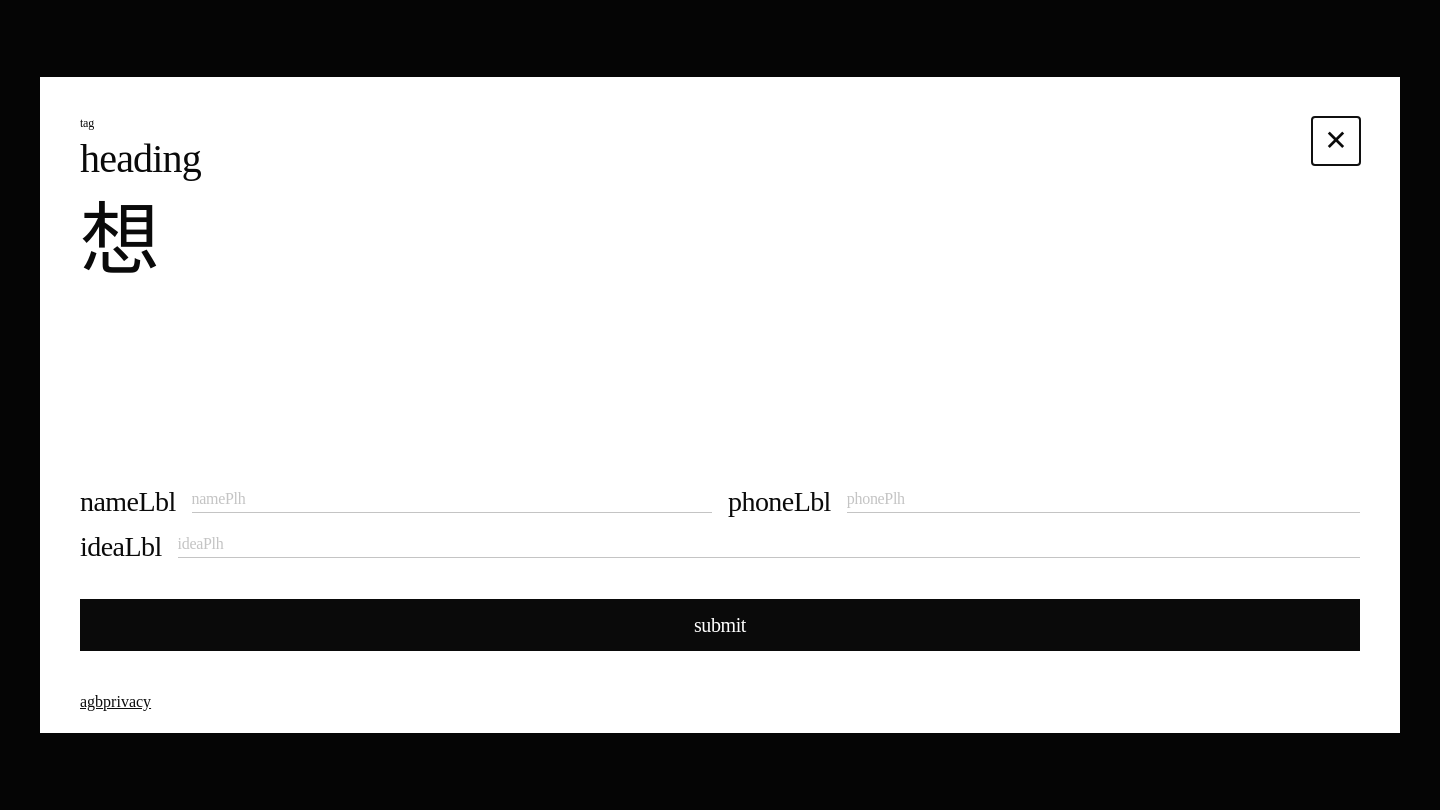
Test: FormPopup › shows success state after successful submit
The width and height of the screenshot is (1440, 810).
Type "Anna" into the field named "name".
click(452, 499); type("Anna")  # box [192,490,712,508]
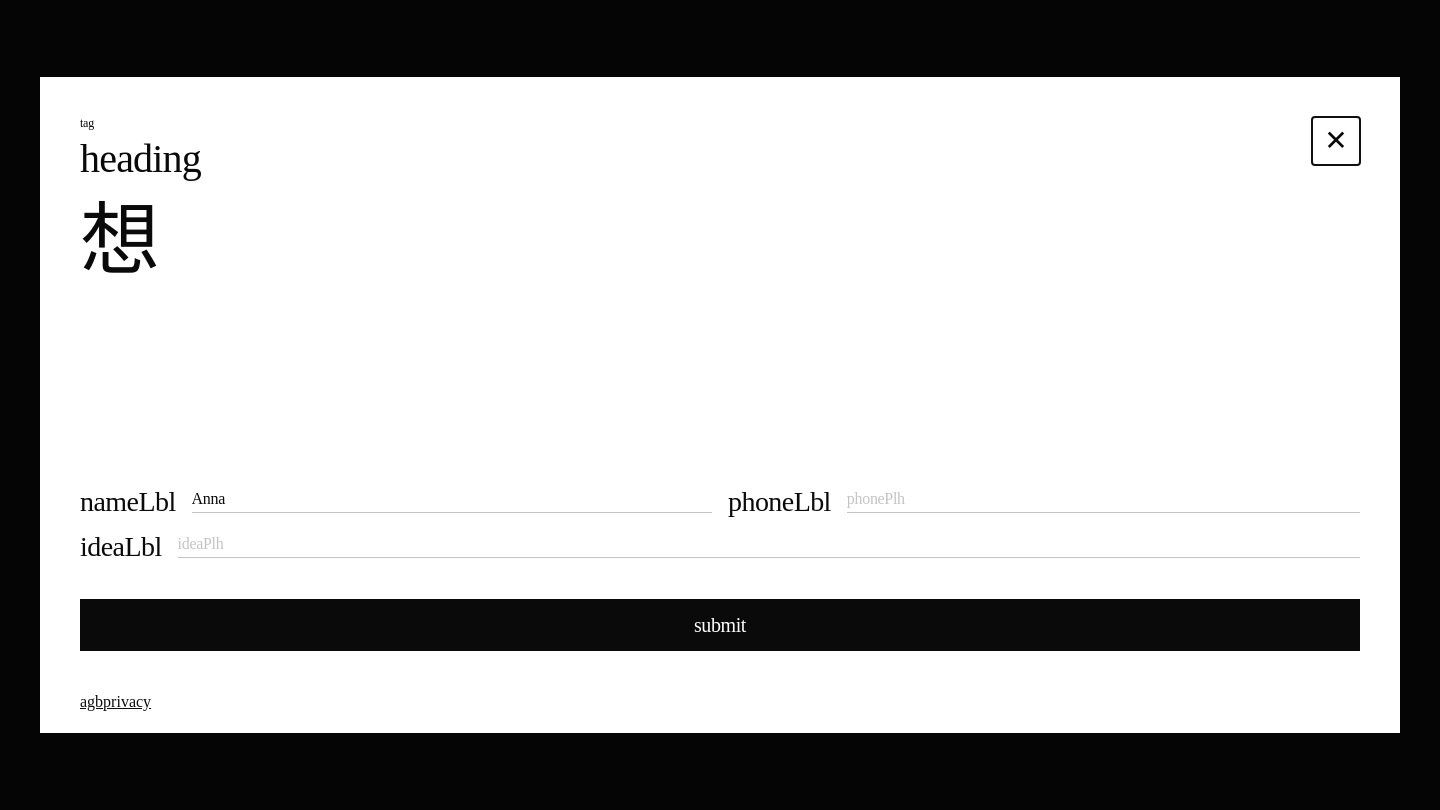
Type "+49123456789" into the field named "phone".
click(1103, 499); type("+49123456789")  # box [847,490,1360,508]
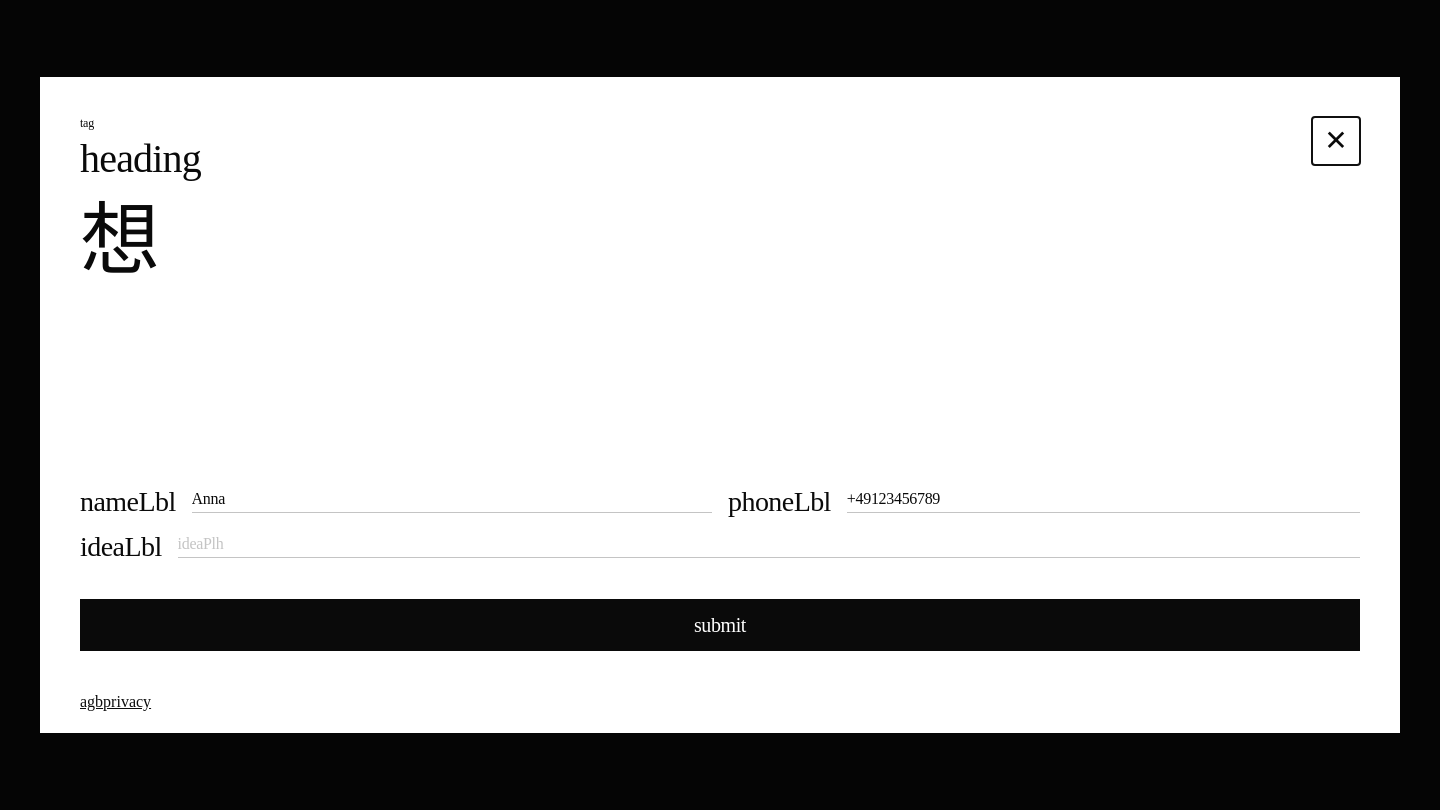
Submit the form, box [60,469,1380,713]
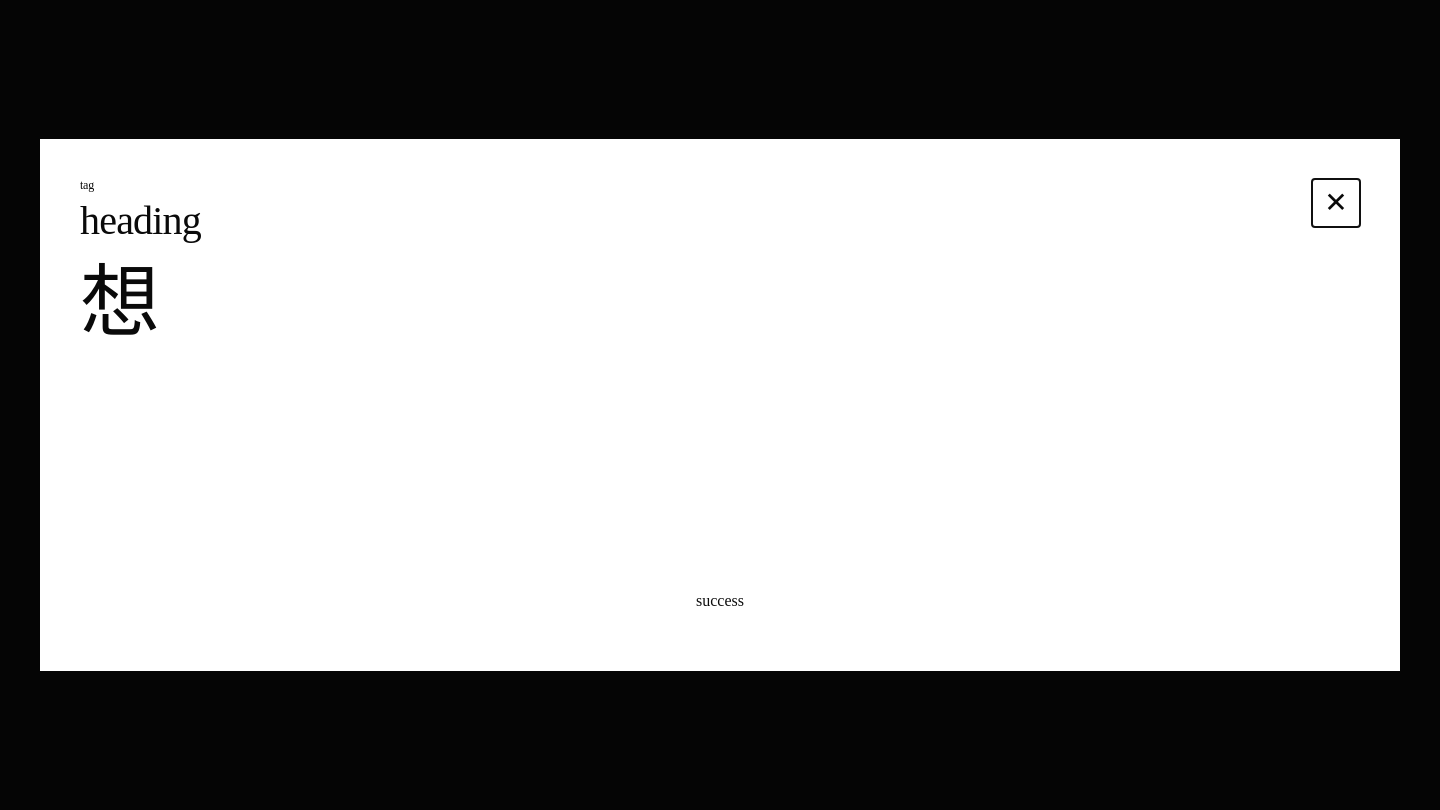
Check: the text "success" is shown, box [696,588,744,614]
